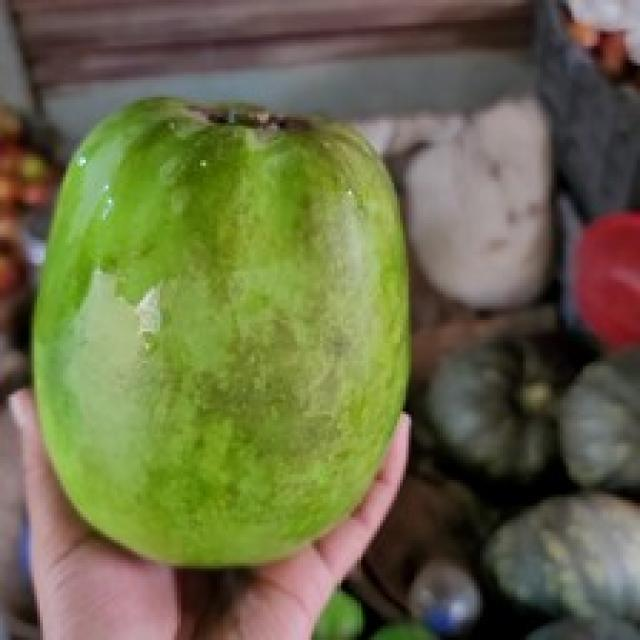Pepaya unrippen: (30, 86, 420, 574)
